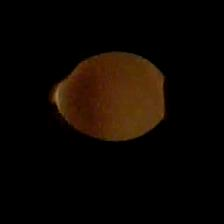infertile: (55, 50, 168, 142)
